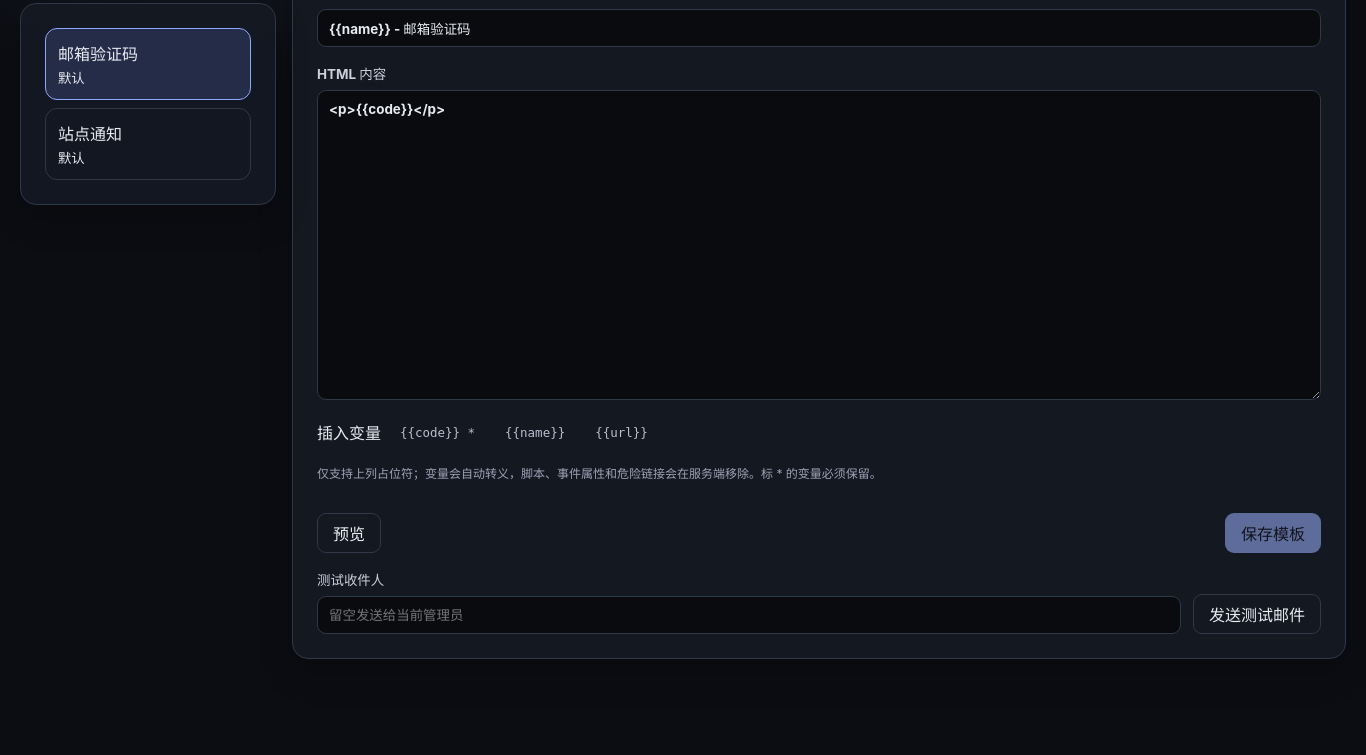
Test case: MailTemplateSettingsPage › inserts only allowlisted variables at the editor selection
(page scrolled)
Click the button "{{name}}": (535, 432) [494, 416, 576, 448]
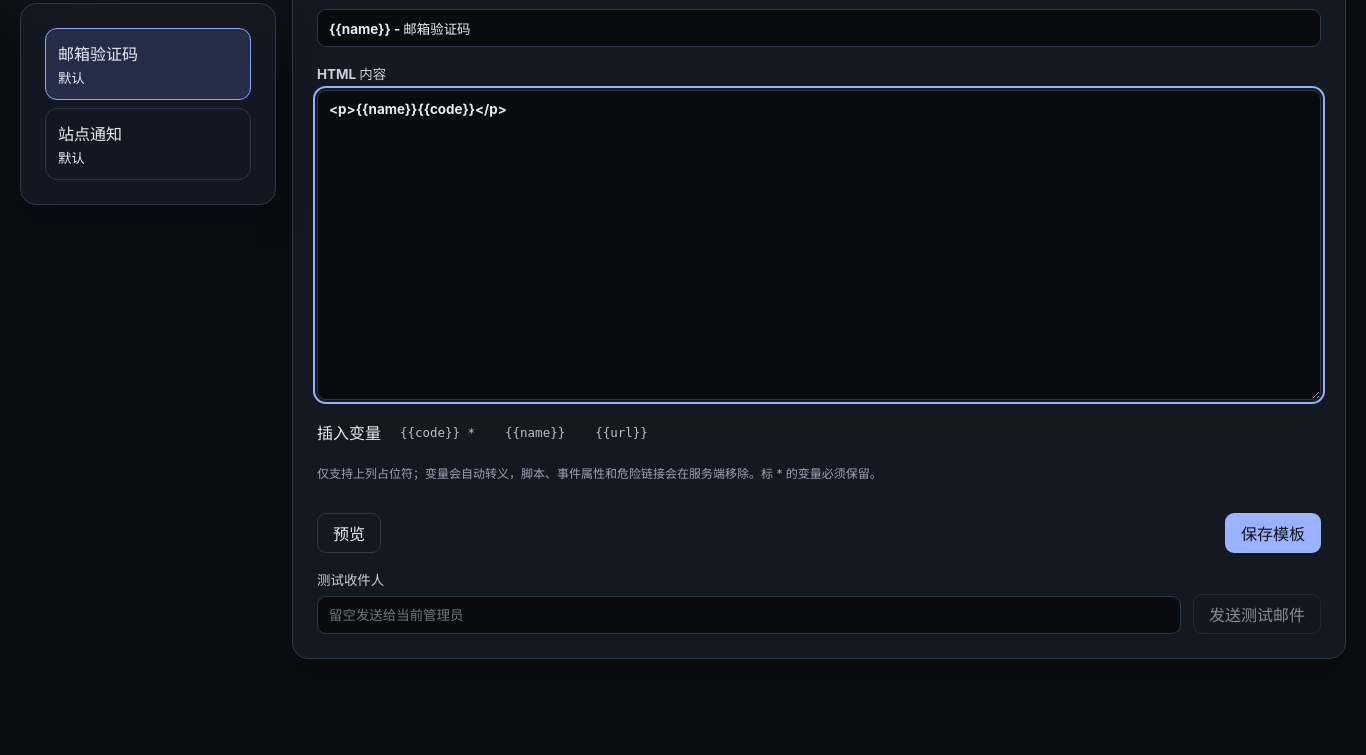
Expected: the text box labelled "HTML 内容" holds "<p>{{name}}{{code}}</p>", [317, 90, 1321, 400]
